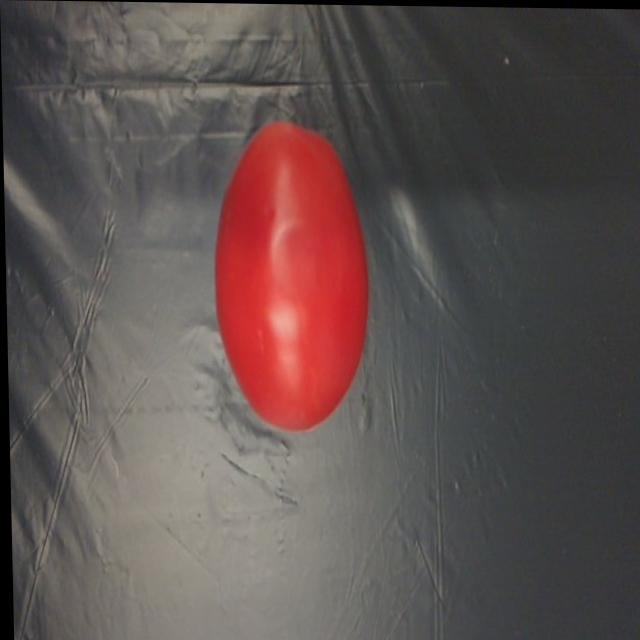kirmizi: (212, 111, 375, 437)
